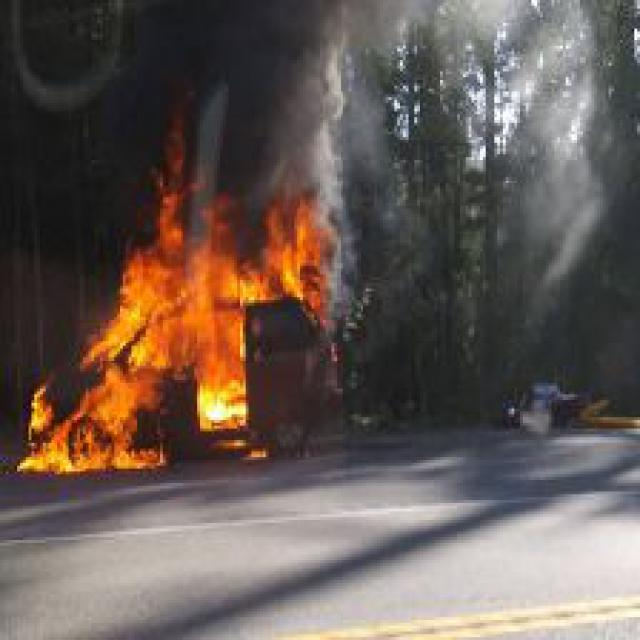fire: (20, 126, 354, 477)
